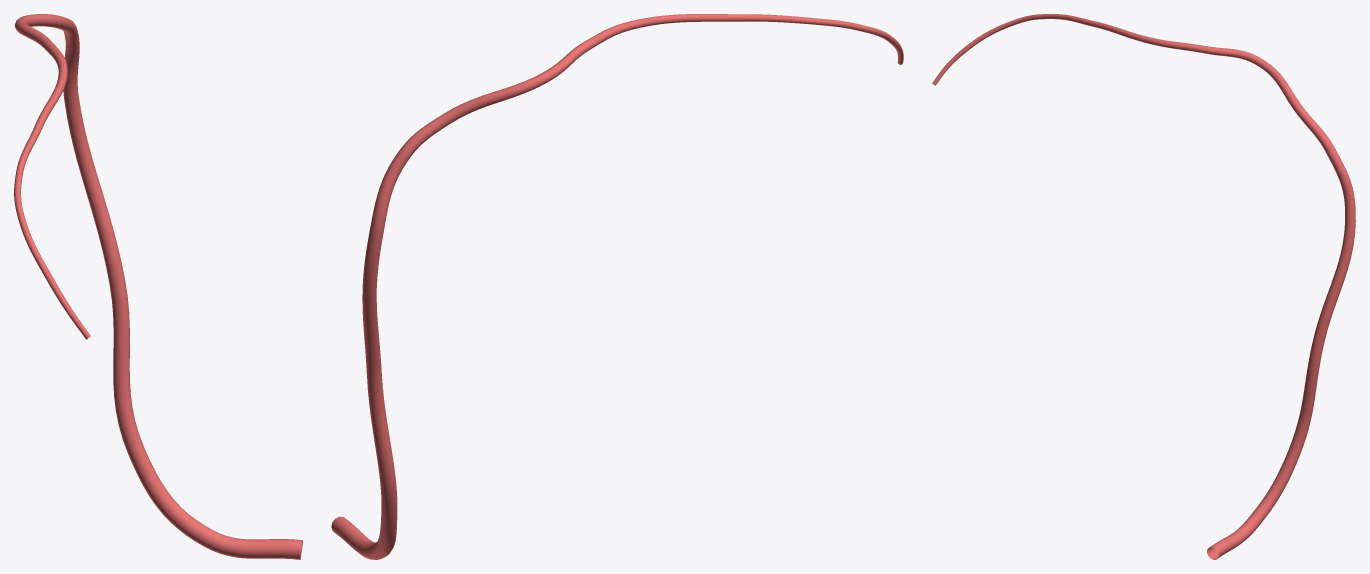
Rendered from Inferior_phrenic_artery.glb.
3 renders of one model, left to right at view 1: azimuth 30°, elevation 25°; view 2: azimuth 150°, elevation 25°; view 3: azimuth 270°, elevation 25°, orthographic. The views are drawn at different scales.
Visible parts, largest first — view 1: Inferior_phrenic_artery_BezierCurve.391; view 2: Inferior_phrenic_artery_BezierCurve.391; view 3: Inferior_phrenic_artery_BezierCurve.391.
Boxes of the visible parts, bbox=[...] form: Inferior_phrenic_artery_BezierCurve.391: bbox=[14, 14, 302, 559]; Inferior_phrenic_artery_BezierCurve.391: bbox=[331, 14, 903, 559]; Inferior_phrenic_artery_BezierCurve.391: bbox=[932, 14, 1355, 559].
Size of the model in its own units: 0.0847 by 0.1107 by 0.1003.
